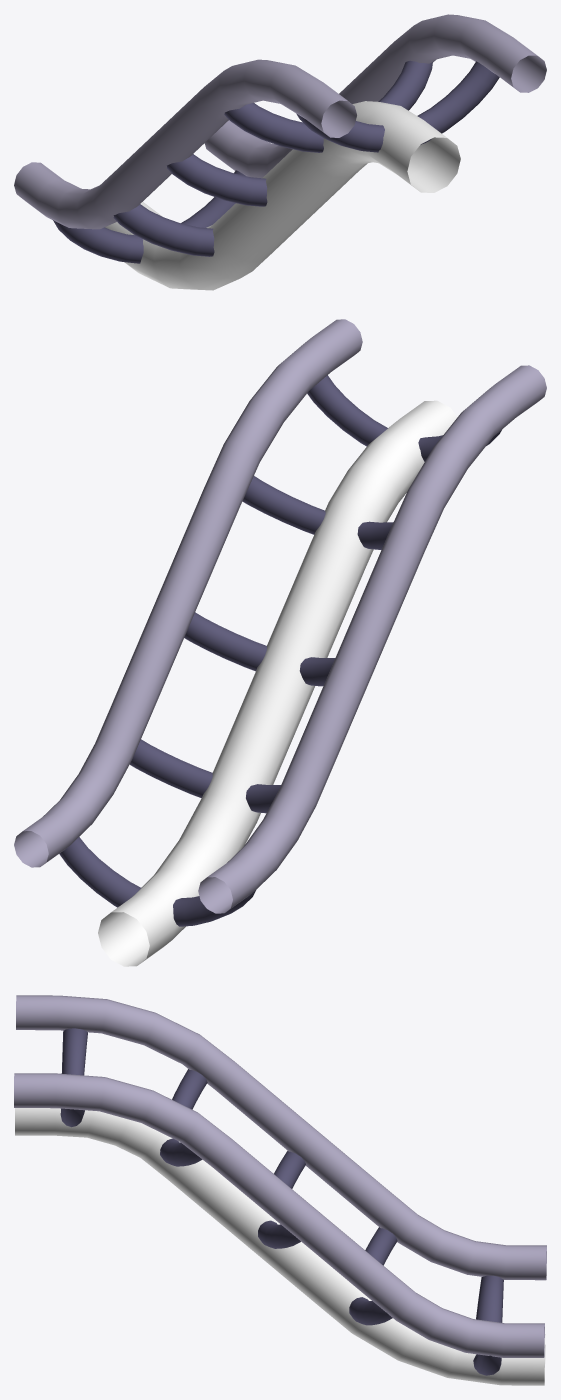
File: rail-down-combined.glb
3 views of the same model, one above another, from view 1: azimuth 30°, elevation 25°; view 2: azimuth 150°, elevation 25°; view 3: azimuth 270°, elevation 25° (orthographic). The views are drawn at different scales.
Visible parts, largest first — view 1: Plane.290_Material.001_0; view 2: Plane.290_Material.001_0; view 3: Plane.290_Material.001_0.
Part boxes in pixels (<box>): Plane.290_Material.001_0: <box>14,14,546,290</box>; Plane.290_Material.001_0: <box>14,319,546,966</box>; Plane.290_Material.001_0: <box>14,995,546,1385</box>.
Size of the model in its own units: 2.81 by 4.76 by 6.66.
1 material, 1 textured.
